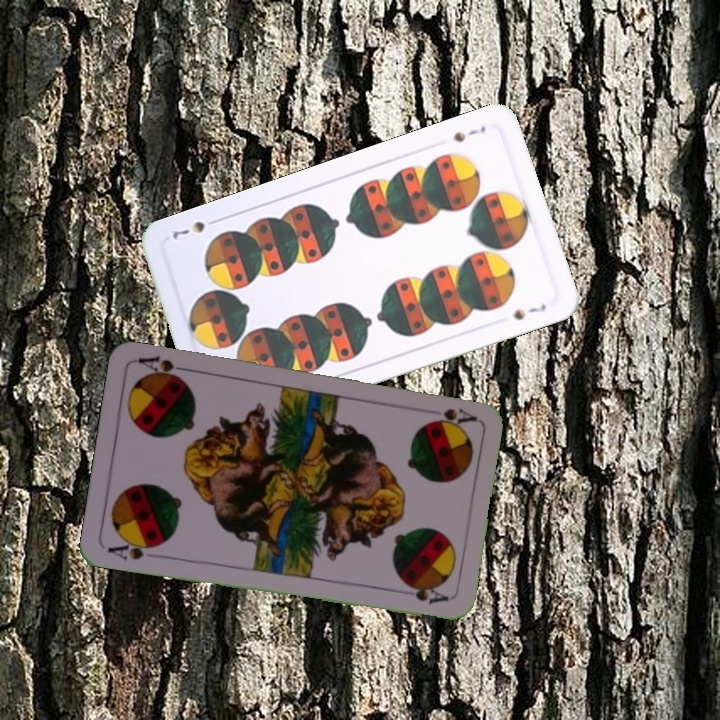S7: (449, 121, 488, 145)
SA: (103, 535, 163, 563), (428, 404, 478, 427)
